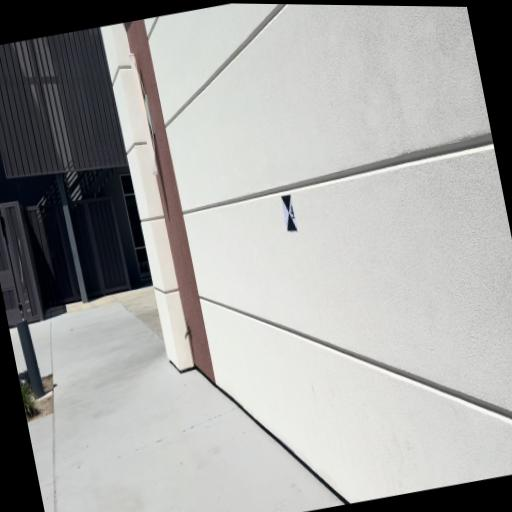target4: (281, 194, 299, 232)
